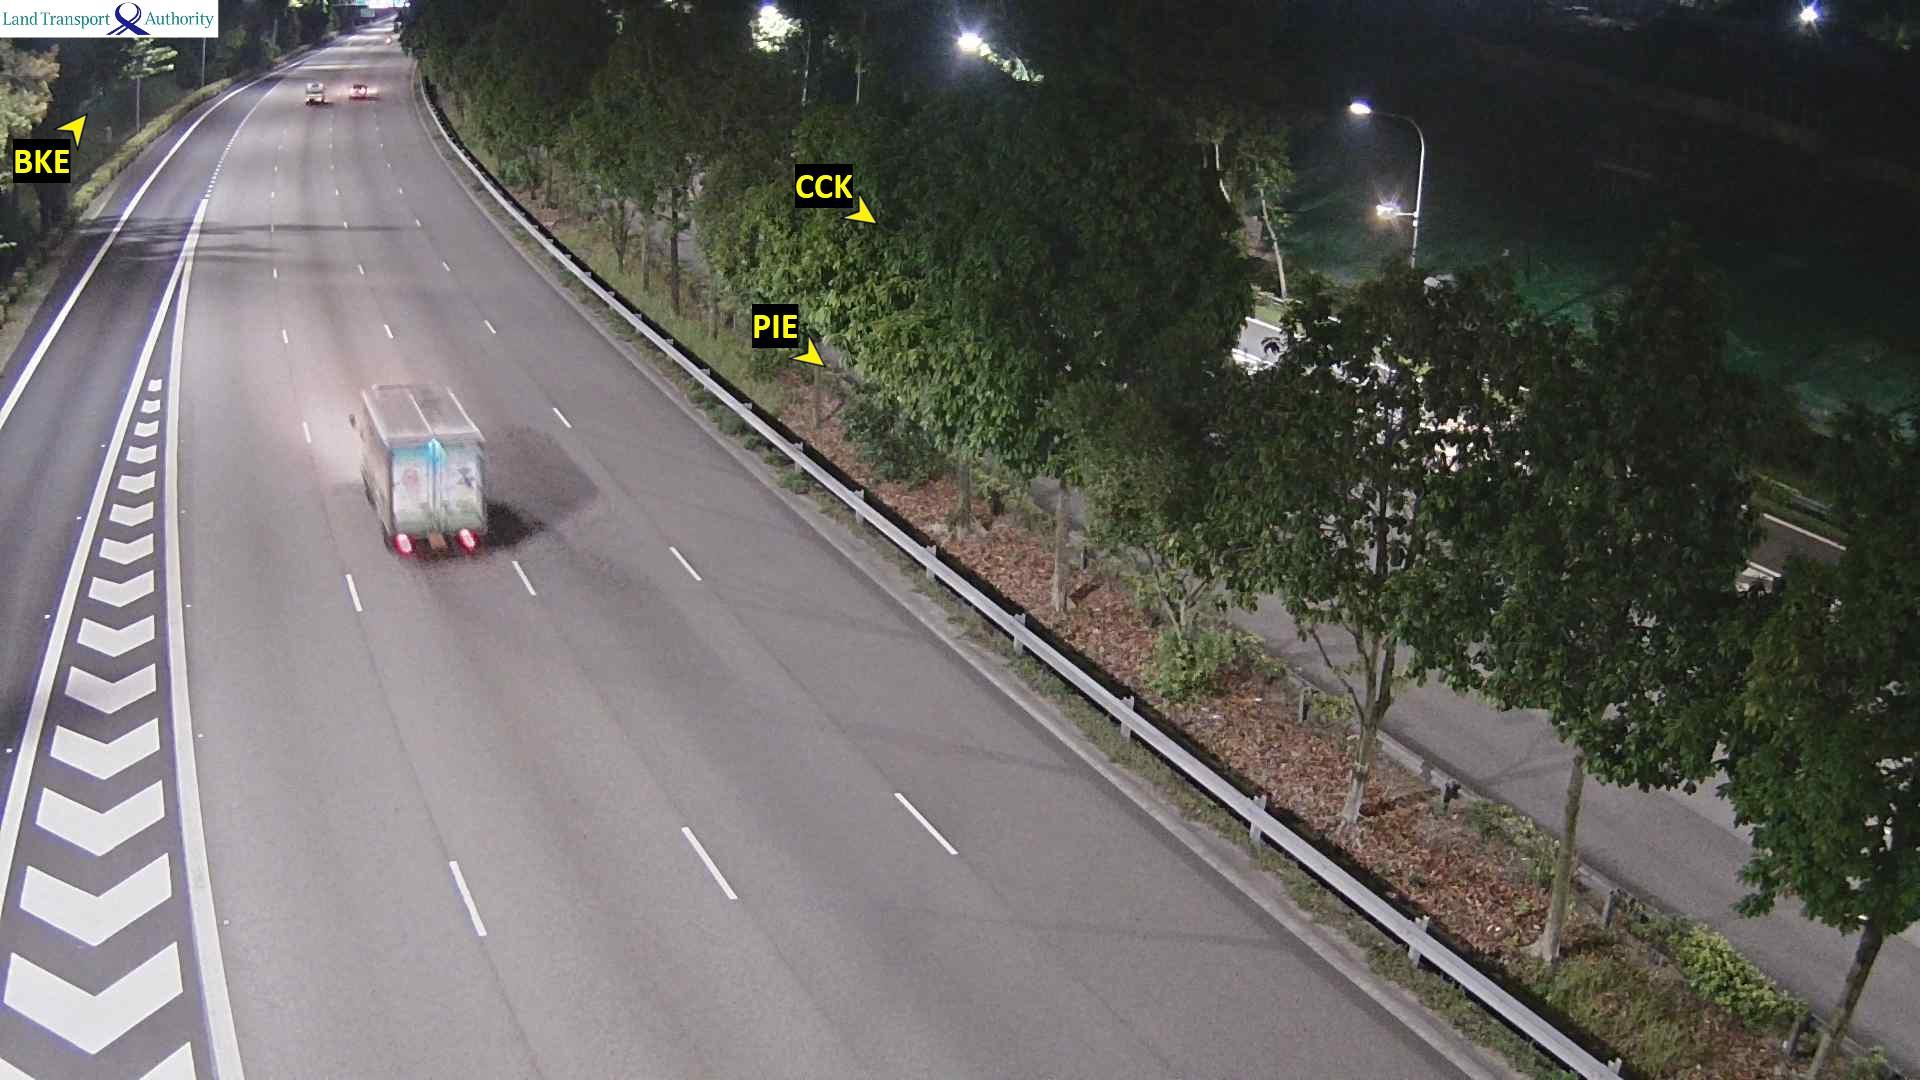cars: (305, 80, 324, 105), (353, 5, 373, 22), (348, 82, 367, 99)
trucks: (348, 378, 489, 556)
